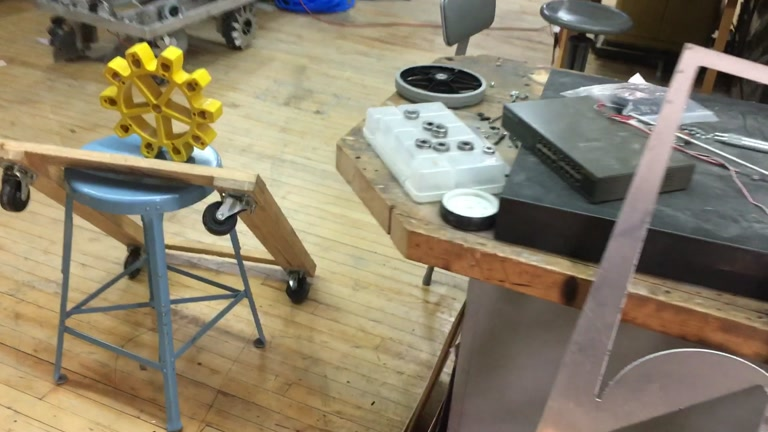gear: (99, 41, 224, 162)
